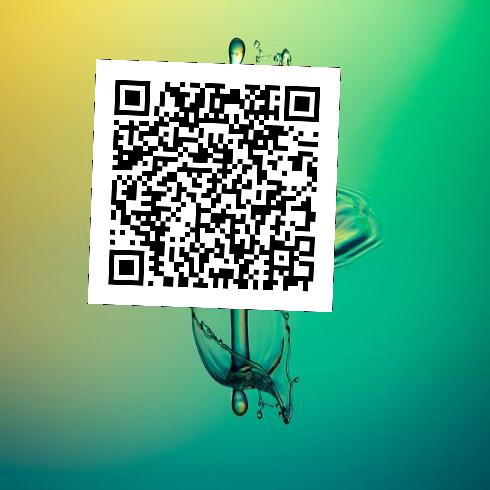qr_code: (87, 58, 340, 312)
